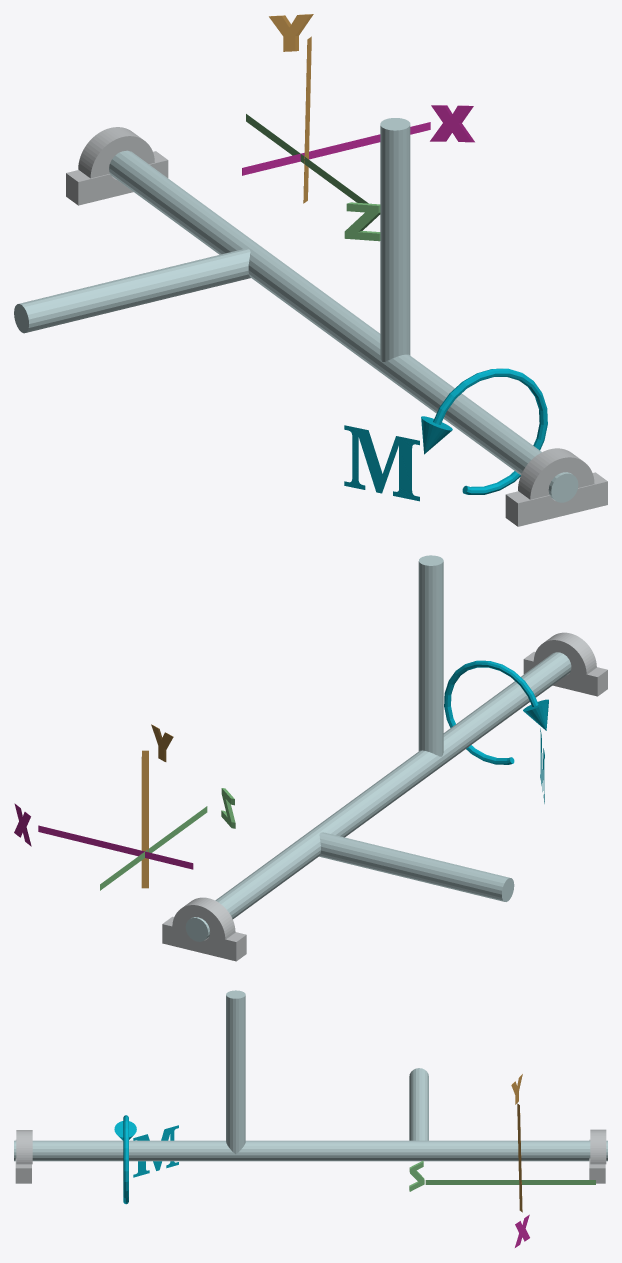
The model's file is U3_SimpleShaft3D.glb.
3 renders of one model, top to bottom at view 1: azimuth 30°, elevation 25°; view 2: azimuth 150°, elevation 25°; view 3: azimuth 270°, elevation 25°, orthographic. The views are drawn at different scales.
Visible parts, largest first — view 1: Mesh_Mesh_head_geo.001_lambert2SG.001; view 2: Mesh_Mesh_head_geo.001_lambert2SG.001; view 3: Mesh_Mesh_head_geo.001_lambert2SG.001.
Part boxes in pixels (bbox=[...]): Mesh_Mesh_head_geo.001_lambert2SG.001: bbox=[14, 14, 607, 526]; Mesh_Mesh_head_geo.001_lambert2SG.001: bbox=[14, 555, 607, 961]; Mesh_Mesh_head_geo.001_lambert2SG.001: bbox=[14, 990, 607, 1247].
Bounding box in the file's own units: 18.36 × 10.33 × 27.46.
